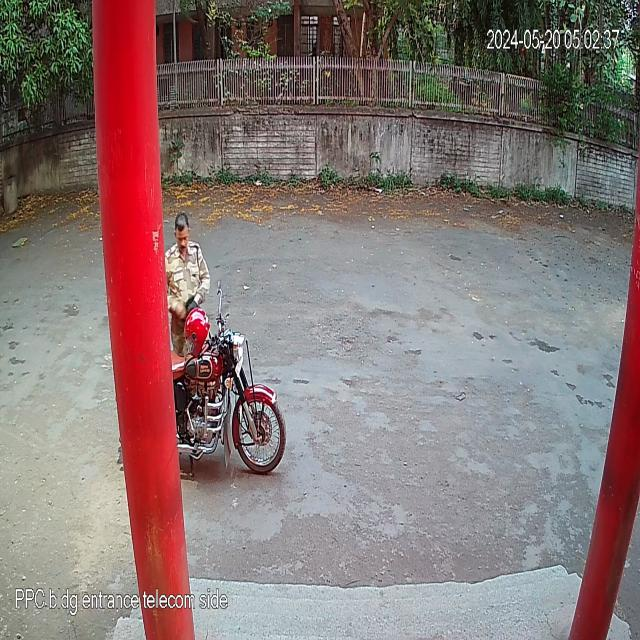no-safety-helmet: (170, 204, 196, 256)
person: (165, 212, 210, 362)
